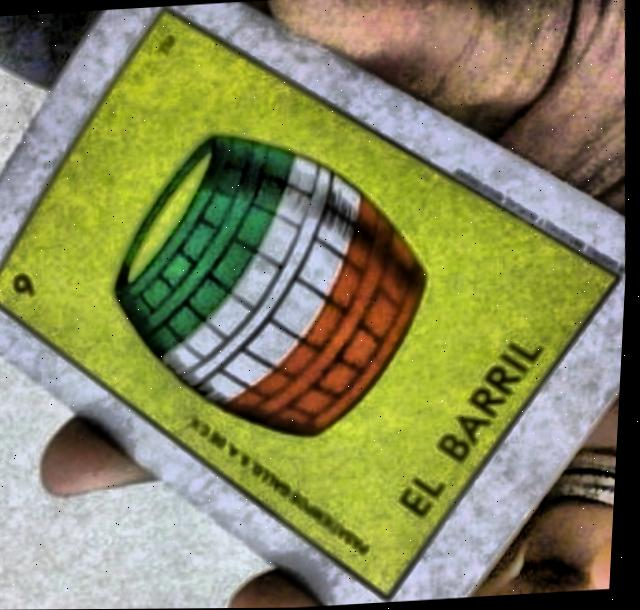El Barril: (0, 12, 618, 595)
